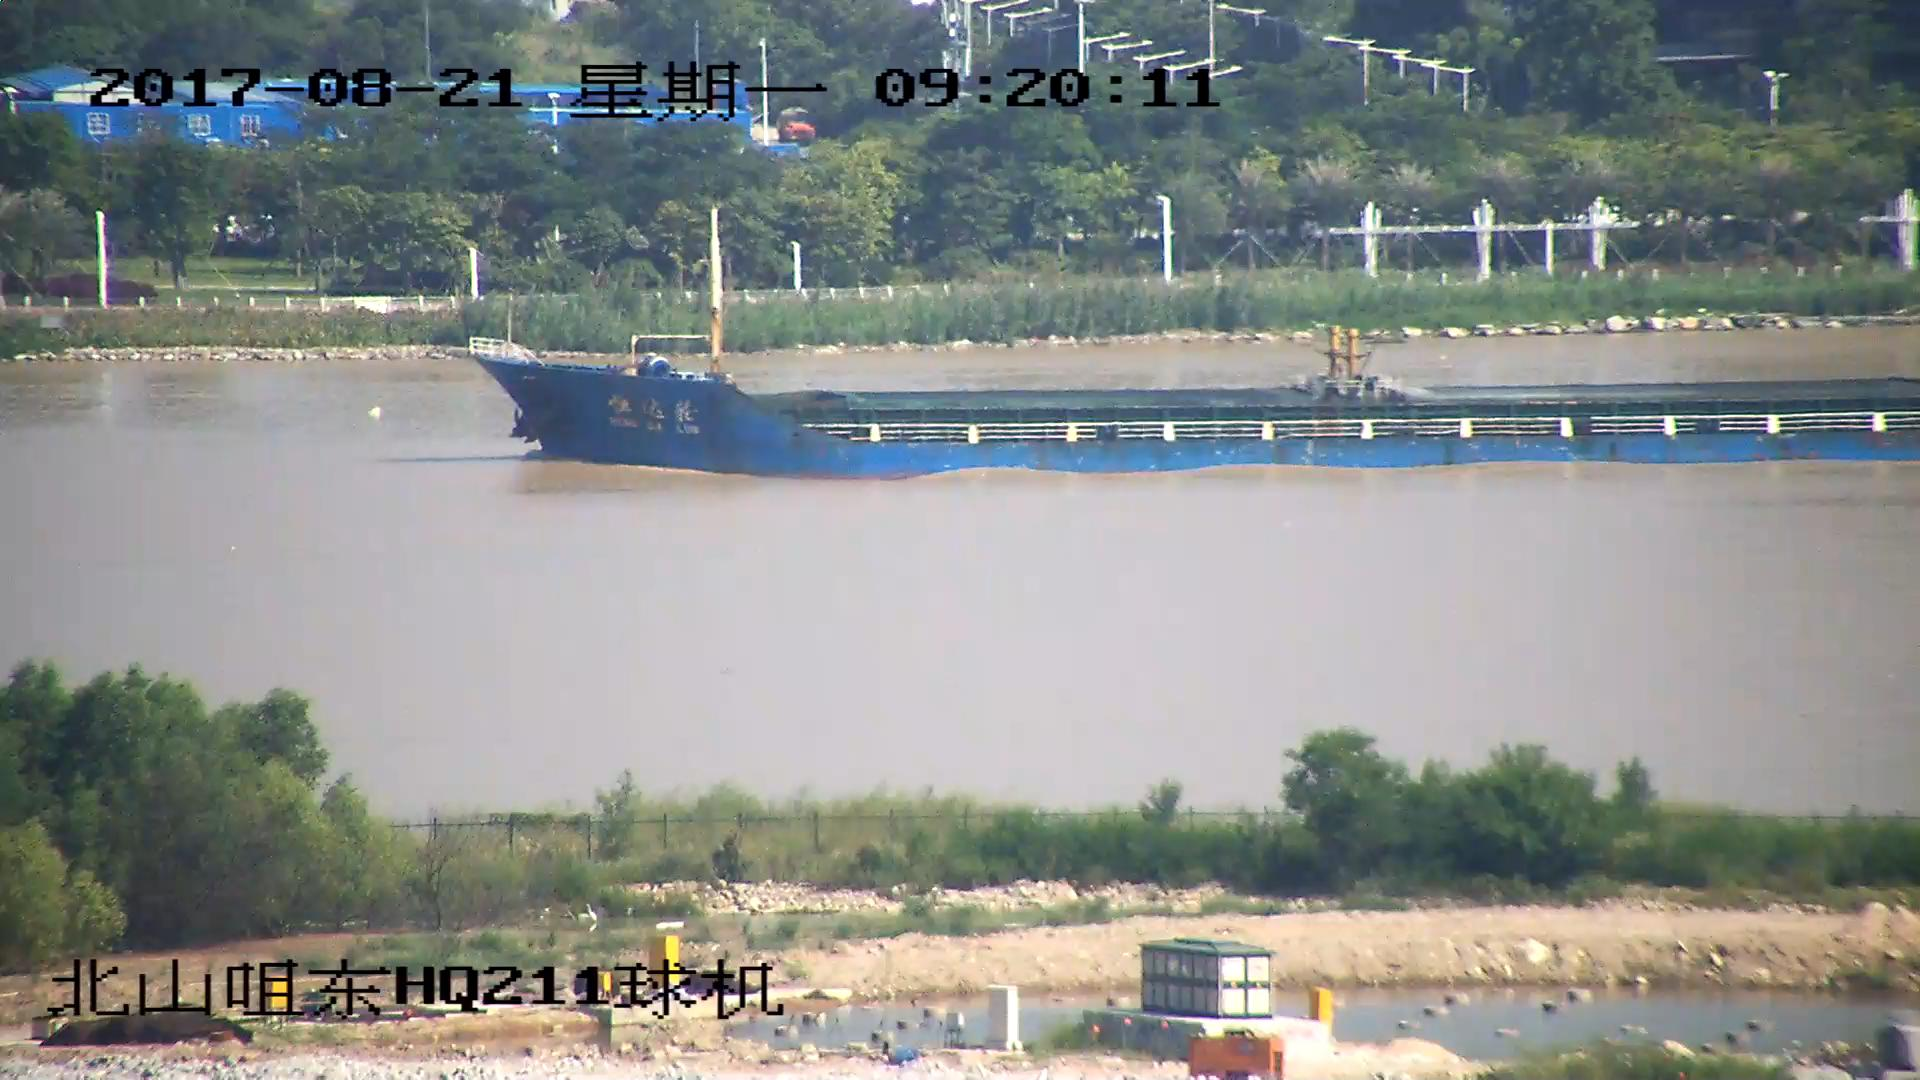general cargo ship: (457, 204, 1920, 480)
